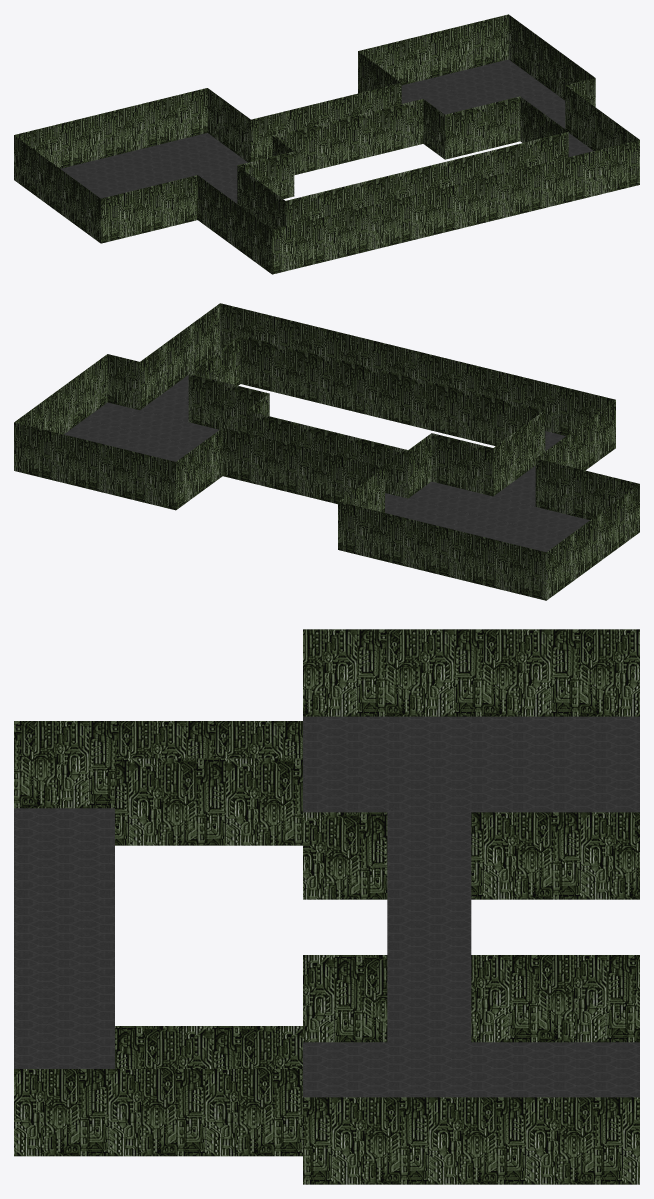
Rendered from testroom.glb.
3 views of the same model, one above another, from view 1: azimuth 30°, elevation 25°; view 2: azimuth 150°, elevation 25°; view 3: azimuth 270°, elevation 25° (orthographic). The views are drawn at different scales.
Visible parts, largest first — view 1: Plane; view 2: Plane; view 3: Plane.
Boxes of the visible parts, bbox=[...] form: Plane: bbox=[14, 14, 639, 274]; Plane: bbox=[14, 303, 639, 600]; Plane: bbox=[14, 629, 639, 1184].
Bounding box in the file's own units: 23 × 2 × 13.
Materials: 2 (2 with a texture image).
